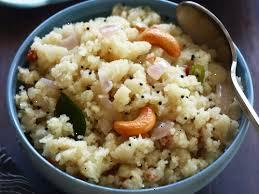upma: (41, 9, 227, 194)
